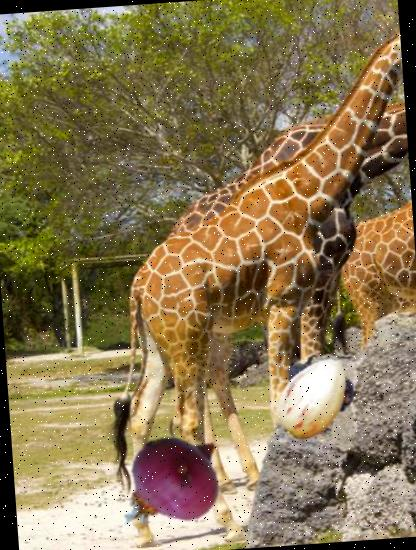Dates: (282, 345, 360, 423)
Onion: (97, 416, 235, 550)
Pepino: (266, 349, 362, 445)
